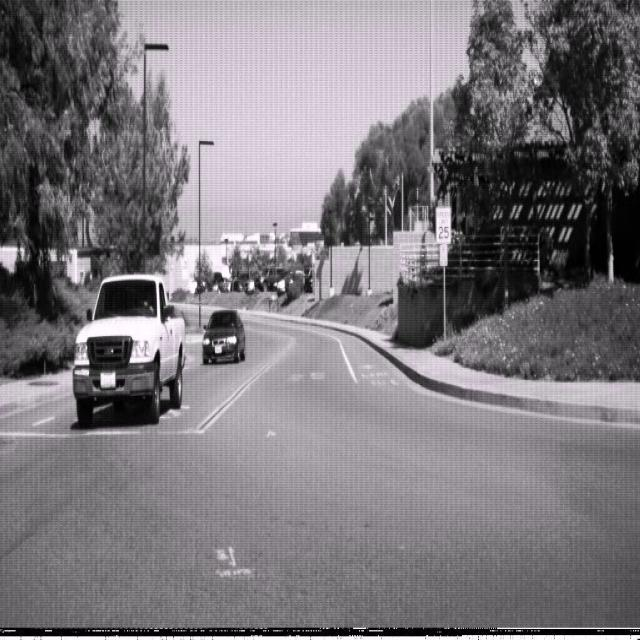speedLimit25: (436, 206, 451, 243)
